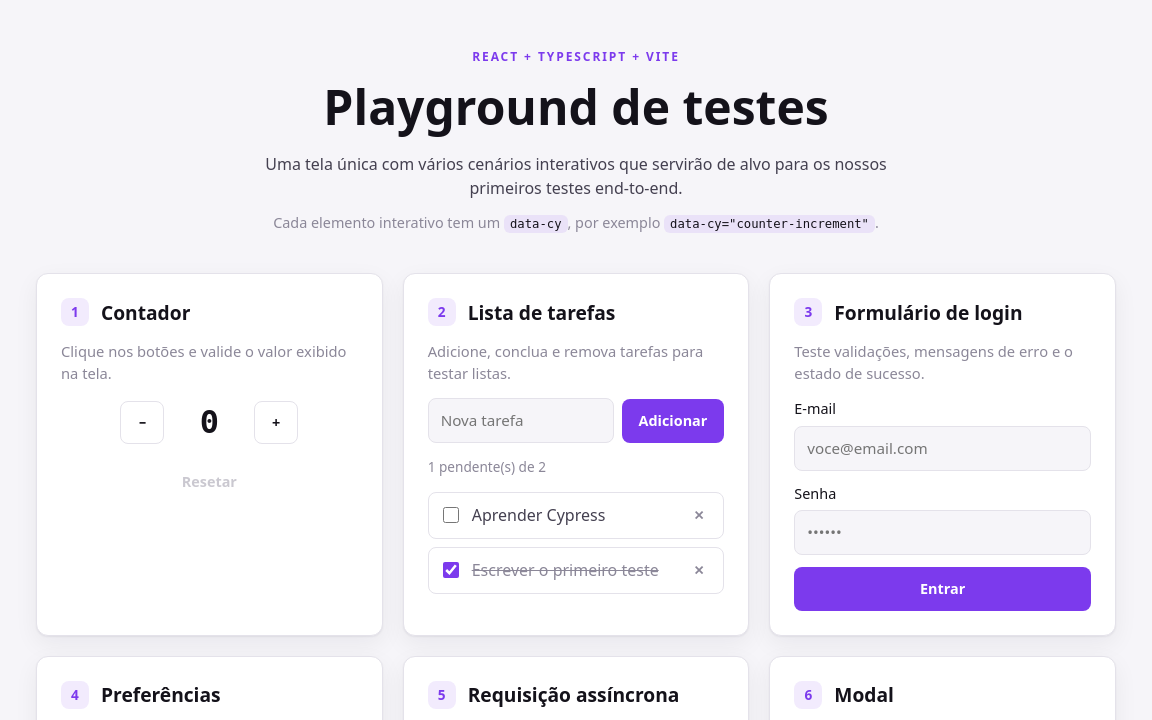
Contador › reseta ao clicar no botão
The image size is (1152, 720).
Expected: the text "0" is shown, x1=200 y1=403 x2=219 y2=441
Click the button "+" at (276, 423), box x1=254 y1=401 x2=298 y2=445
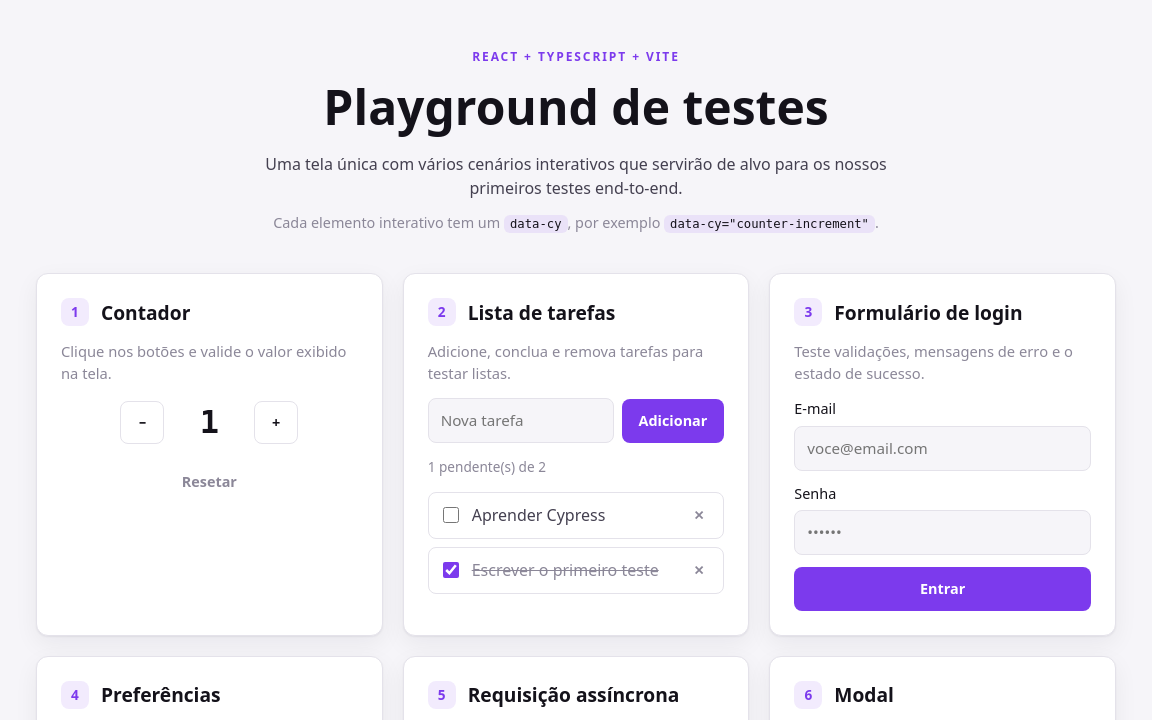
Result: the 2nd text "1" is shown at x1=200 y1=403 x2=219 y2=441
Click the button "Resetar" at (210, 482), box x1=61 y1=460 x2=358 y2=504
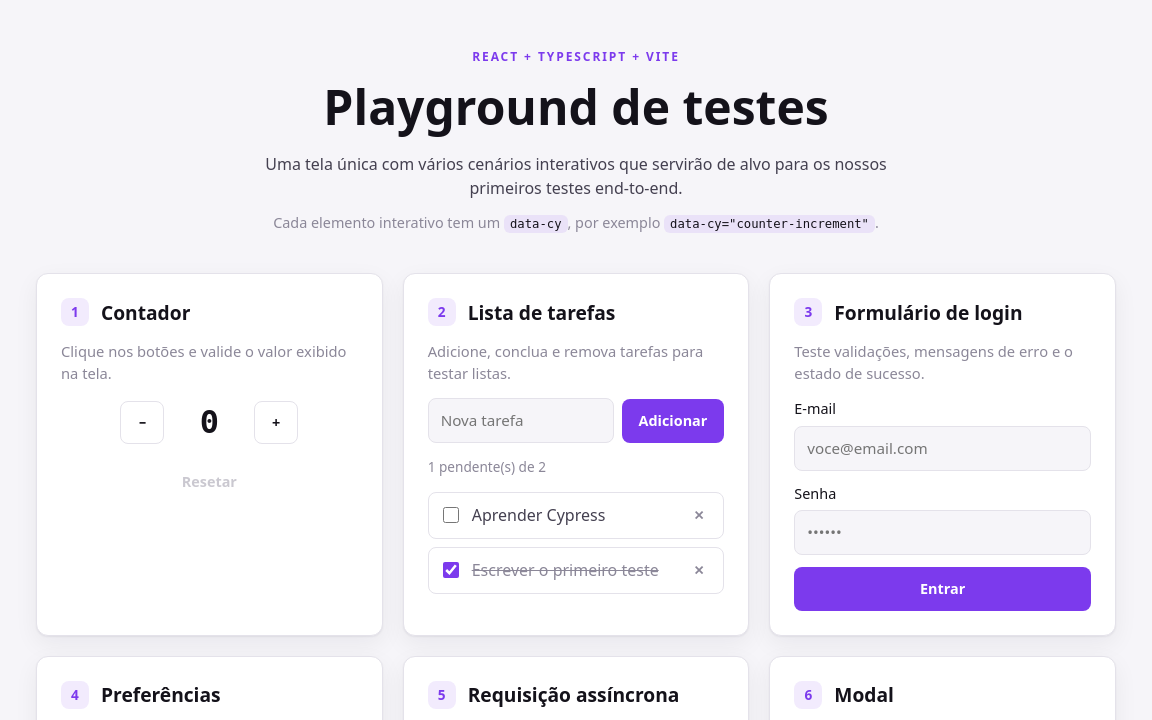
Result: the text "0" is shown at x1=200 y1=403 x2=219 y2=441
